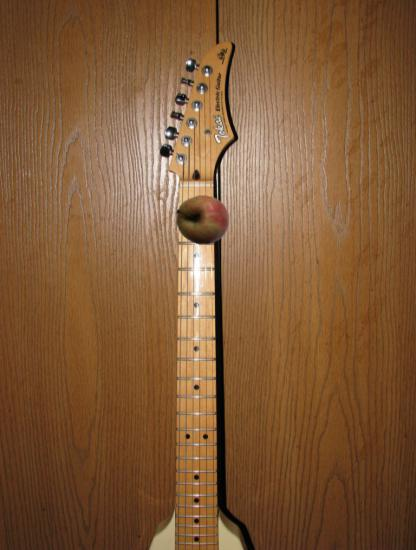Apple: (176, 193, 230, 247)
